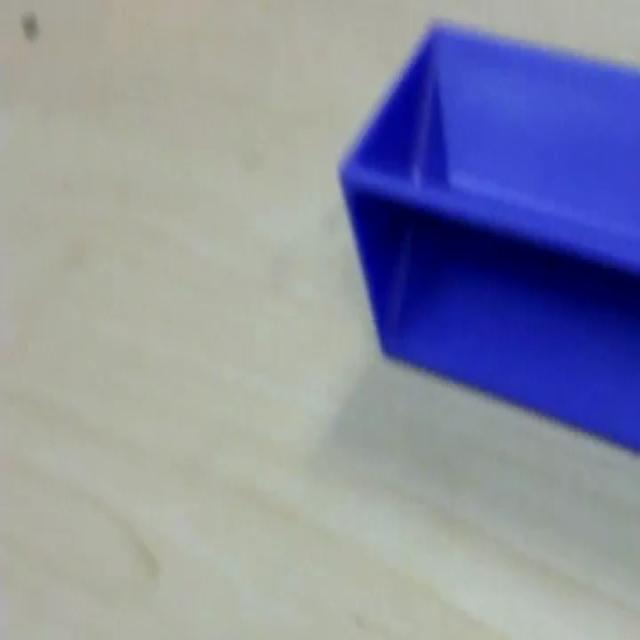blue_block: (337, 16, 638, 452)
